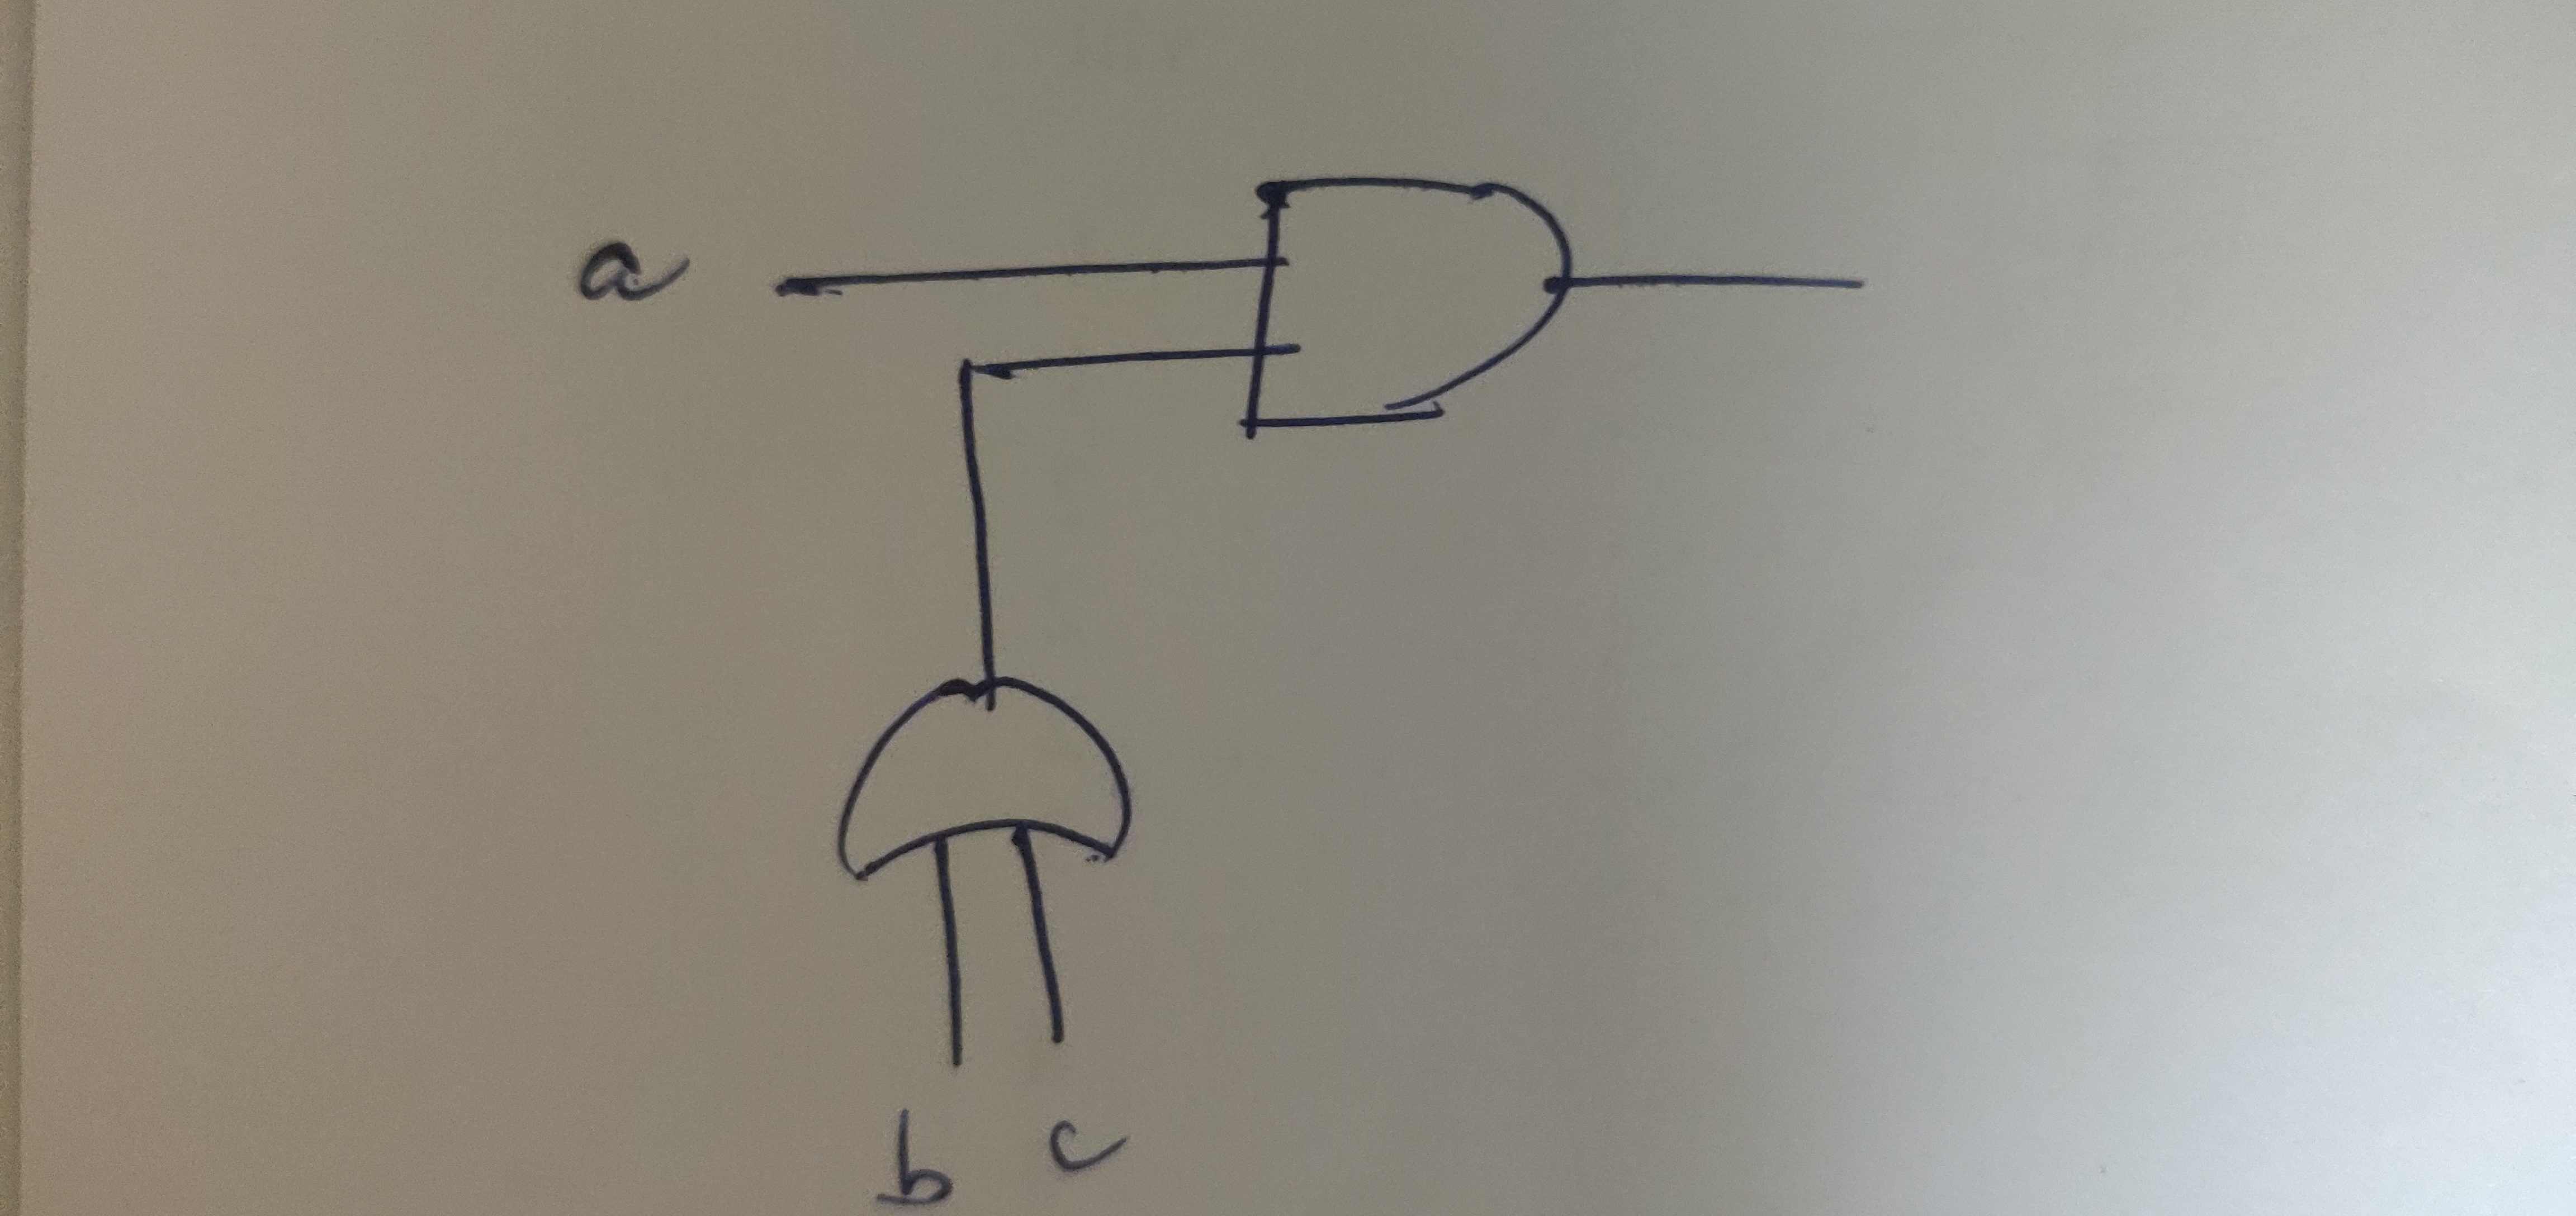and: (1209, 148, 1607, 470)
or: (821, 654, 1157, 914)
